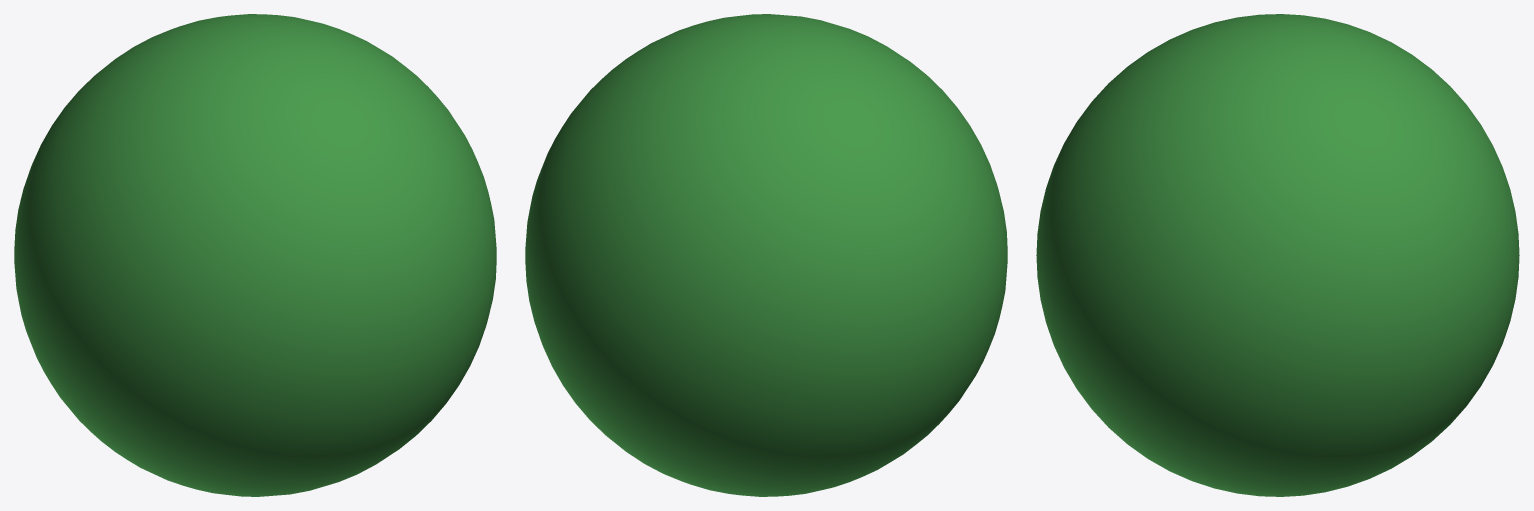
File: KugelTest.fbx
The picture shows the model from 3 angles, left to right: view 1: azimuth 30°, elevation 25°; view 2: azimuth 150°, elevation 25°; view 3: azimuth 270°, elevation 25°; orthographic projection.
Parts seen in each view (by area): view 1: Body1; view 2: Body1; view 3: Body1.
Boxes of the visible parts, x1,y1,x2,y2 form: Body1: (14,14,496,496); Body1: (525,14,1007,496); Body1: (1036,14,1519,496).
Bounding box in the file's own units: 50 × 49.99 × 50.
